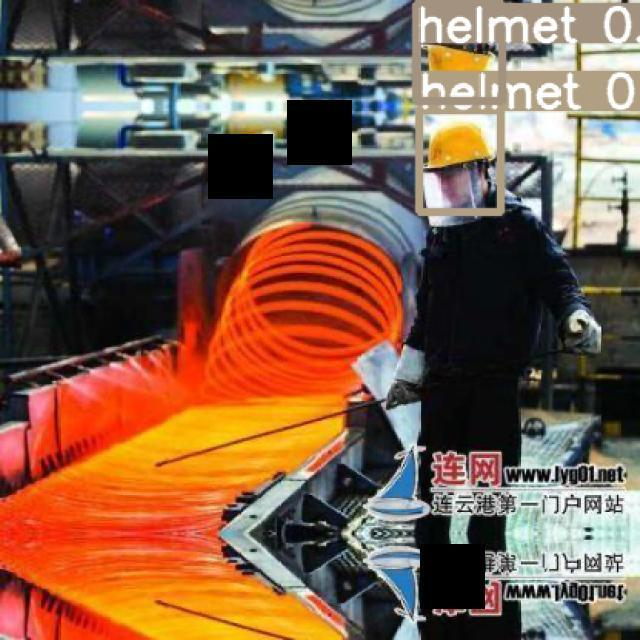yellow helmet: (422, 115, 502, 173), (426, 45, 496, 73)
